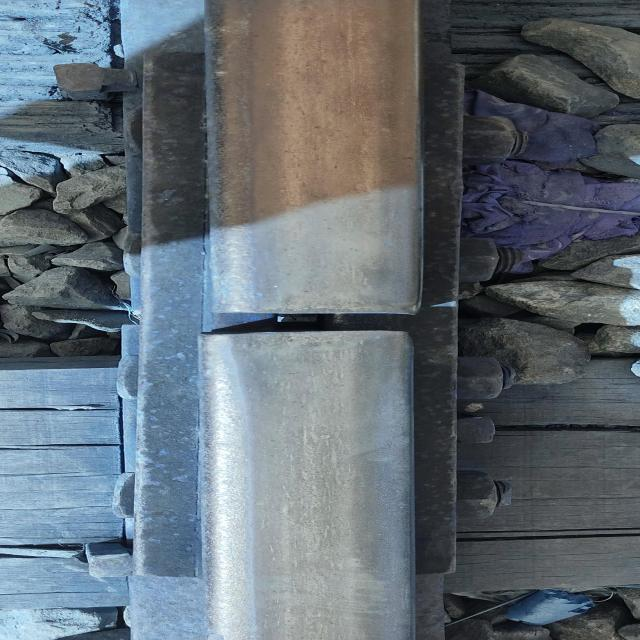Good Joint: (94, 53, 531, 593)
